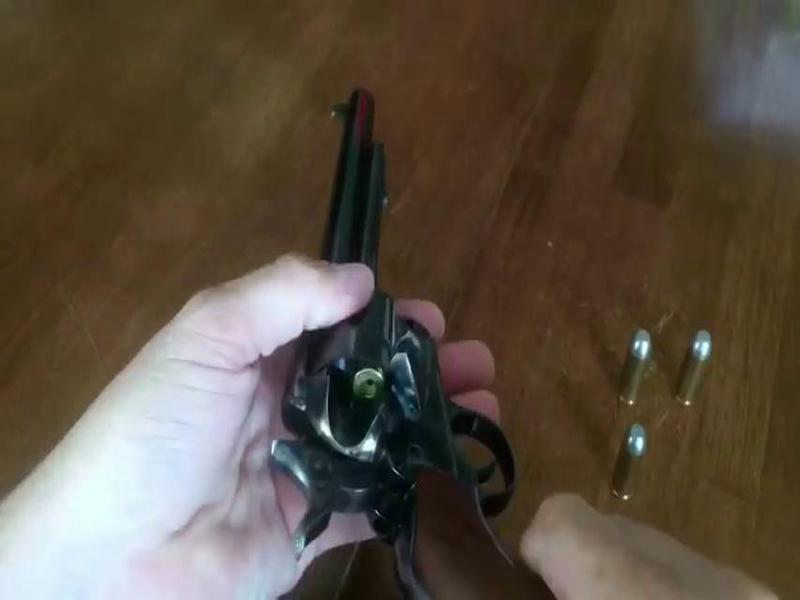Revolver: (275, 74, 486, 579)
